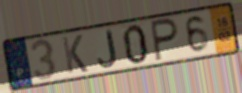0: (121, 23, 151, 65)
3: (30, 37, 60, 82)
6: (184, 13, 211, 54)
J: (96, 28, 119, 69)
K: (60, 34, 90, 76)
P: (149, 16, 181, 63)
